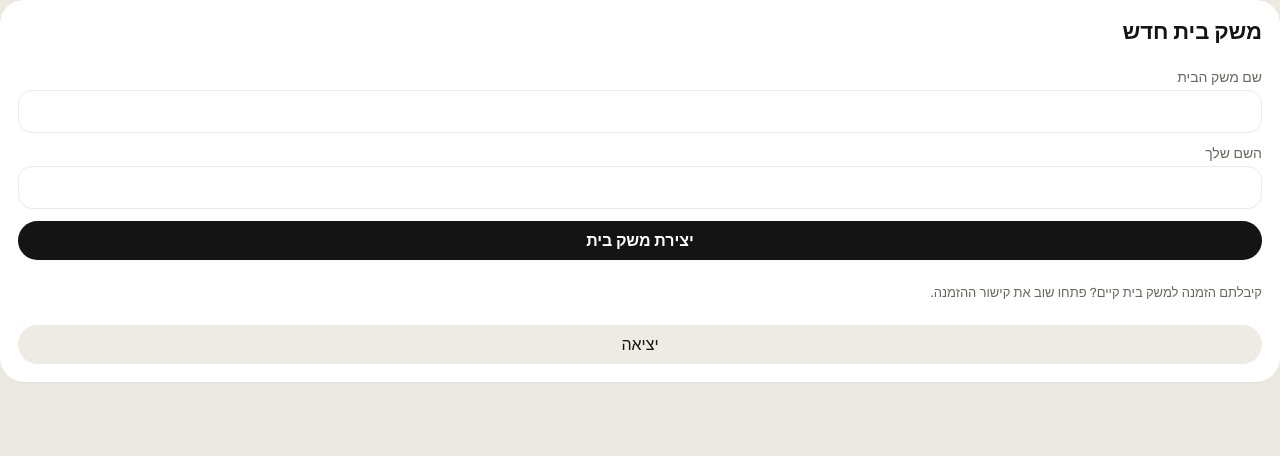
Onboarding shows the not-invited message when the email is not allowlisted
In the field labelled "שם משק הבית": (640, 112) top-left (18, 90), bottom-right (1262, 133), type "בית כהן"
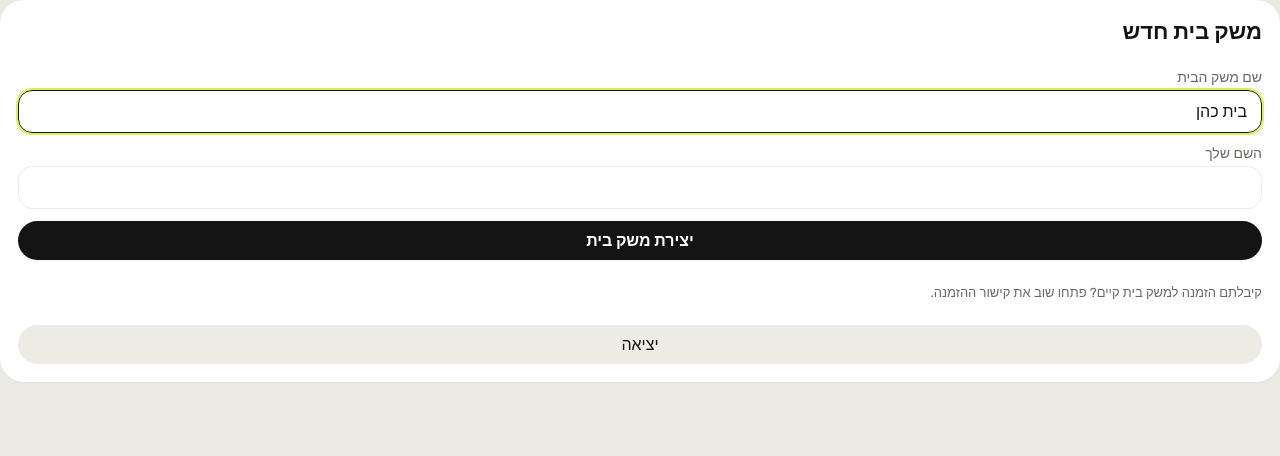
In the field labelled "השם שלך": (640, 188) top-left (18, 166), bottom-right (1262, 209), type "שי"
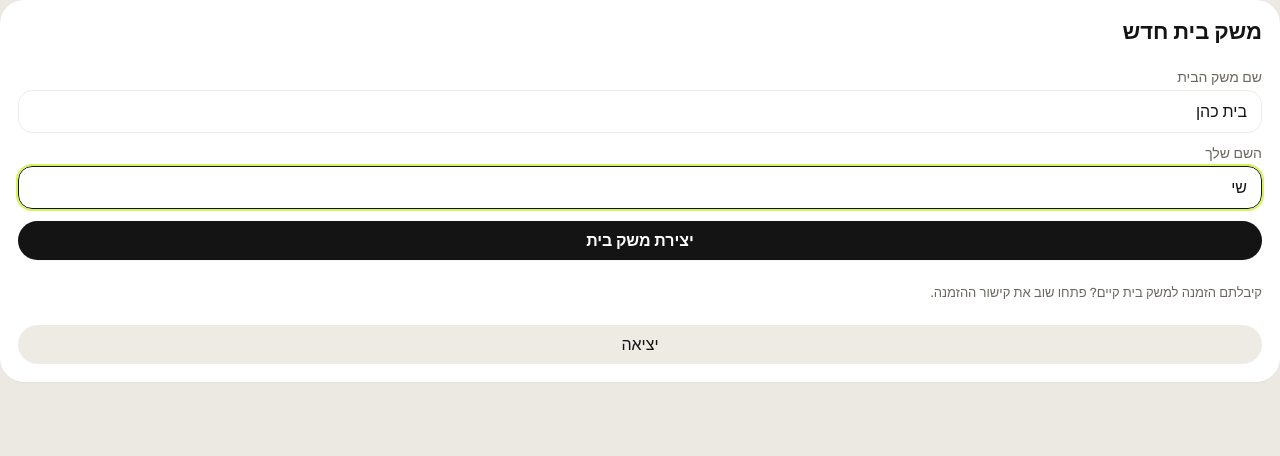
Click the button "יצירת משק בית": (640, 240) top-left (18, 221), bottom-right (1262, 260)
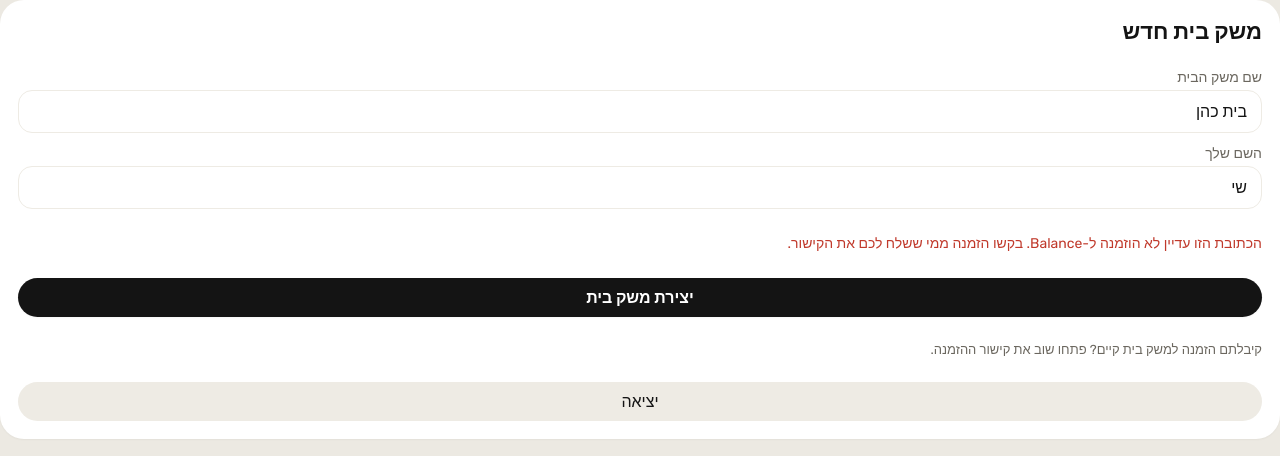
Now the text "הכתובת הזו עדיין לא הוזמנה ל-Balance. בקשו הזמנה ממי ששלח לכם את הקישור." is shown, box top-left (788, 235), bottom-right (1262, 252)
